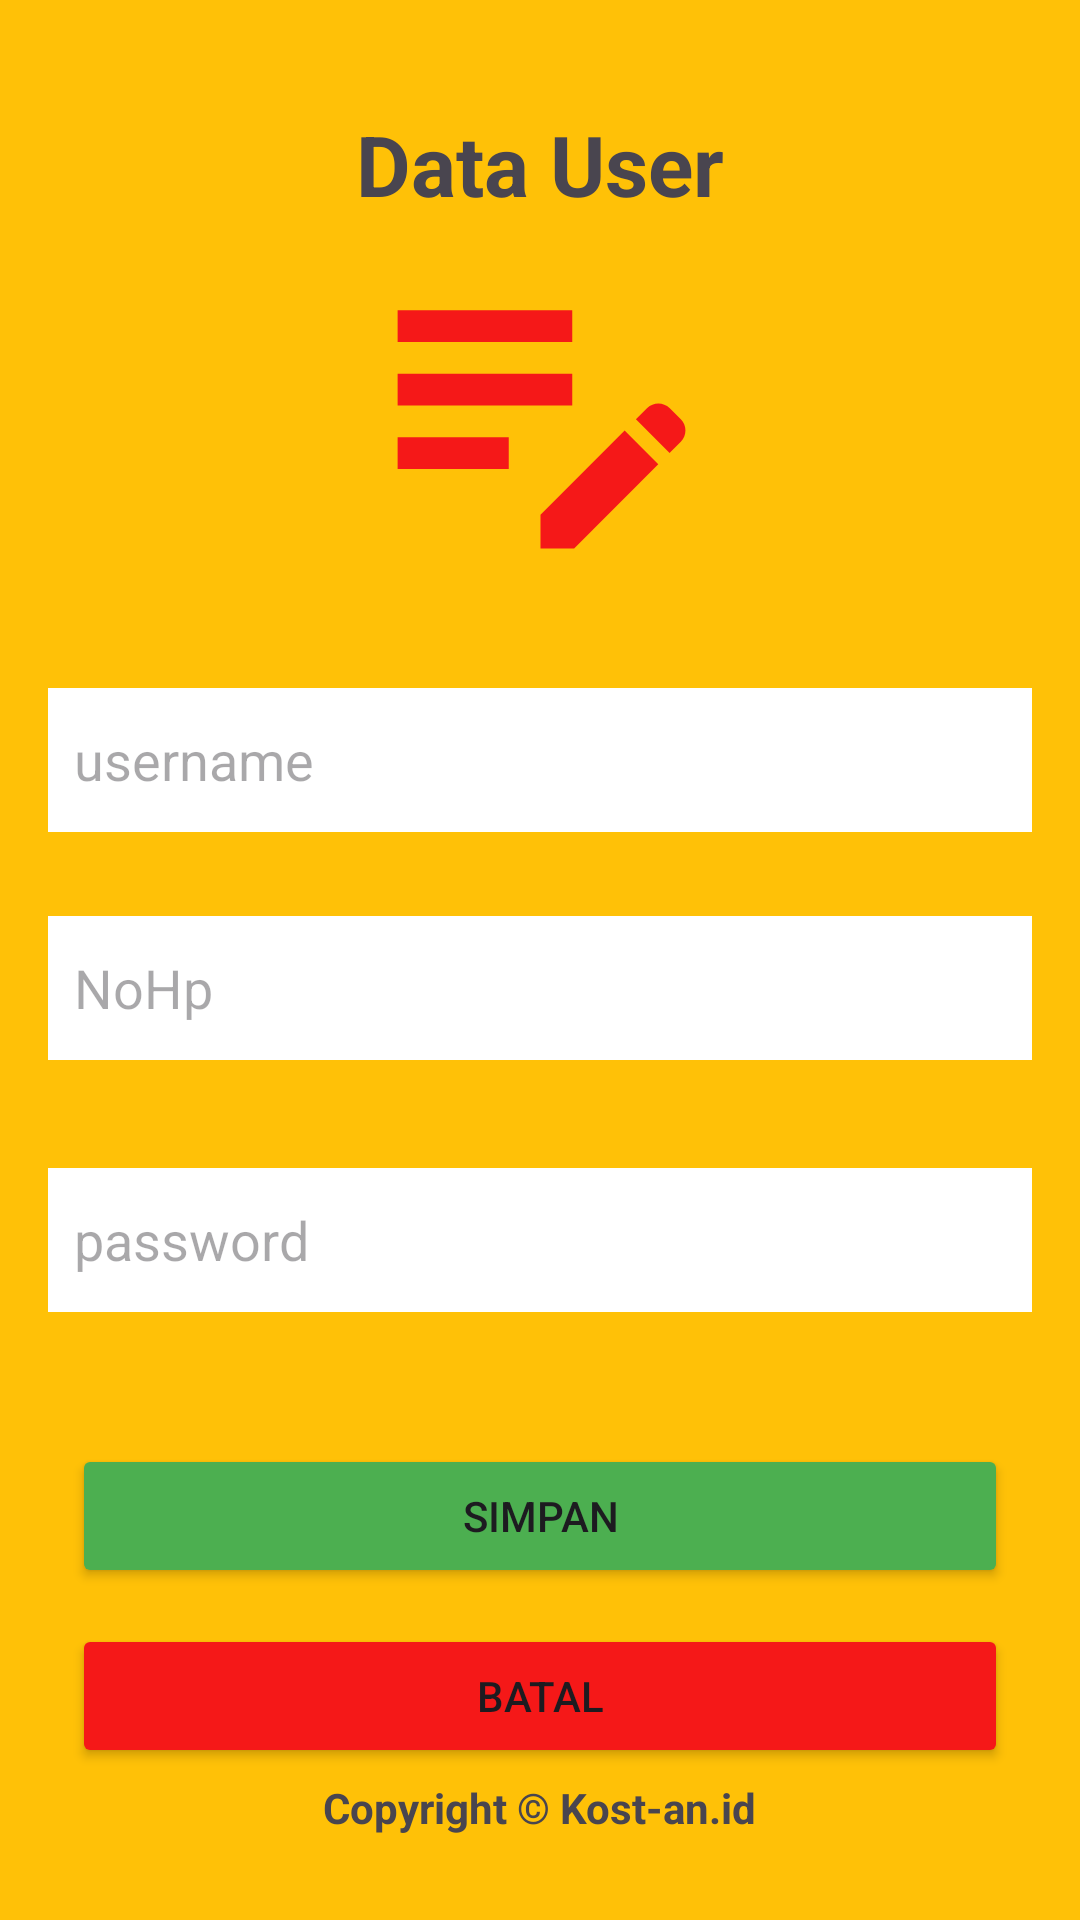

Named icons in this screenshot (1080 x 1920) and their bounding boxes, (x1, y1, x2, y2):
edit note: (397, 310, 686, 549)
